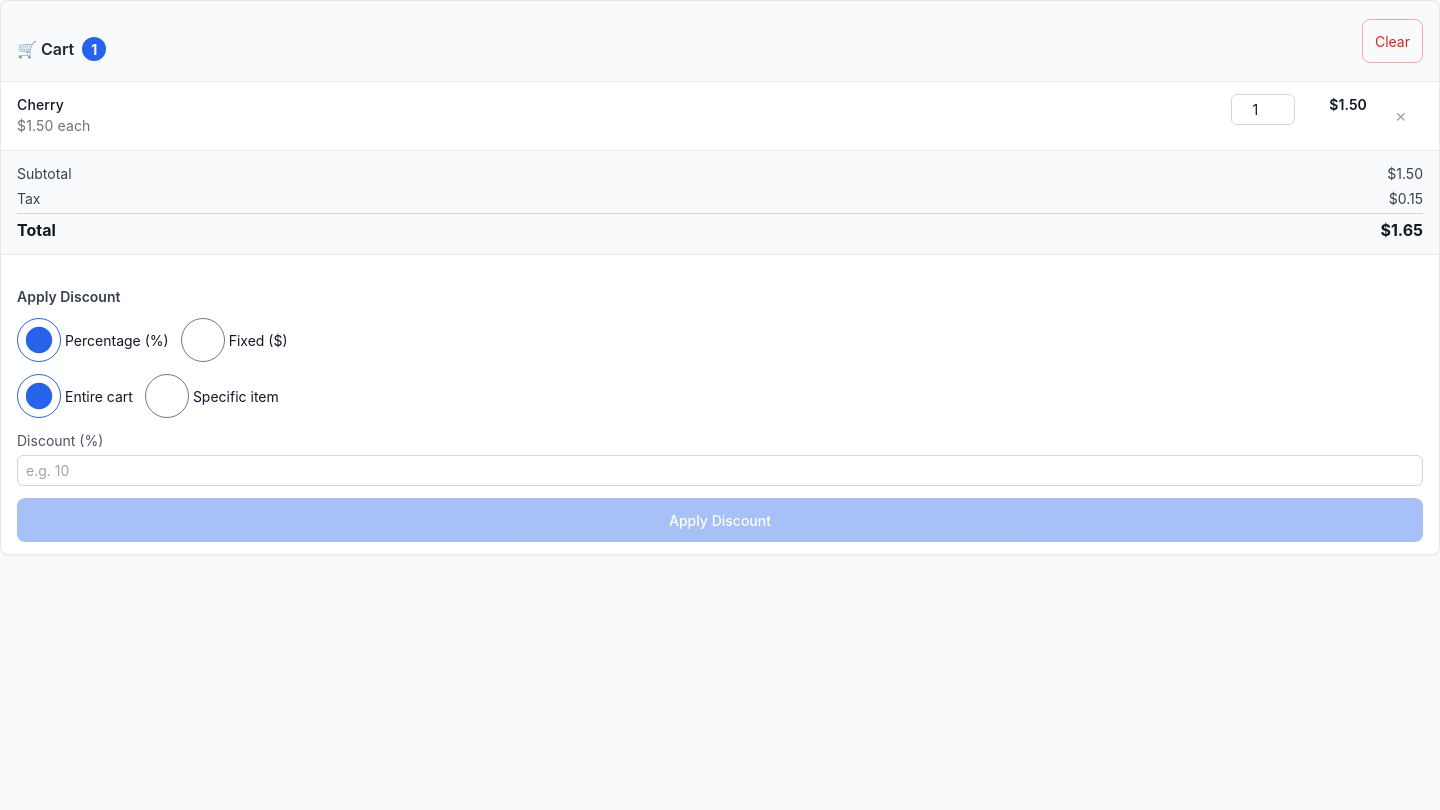
Scenario: ShoppingCart – store integration › removes item from cart when remove button is clicked
Expected: the text "Cherry" is shown, top-left (17, 96), bottom-right (64, 113)
Click the button named "remove cherry": (1401, 116) top-left (1379, 94), bottom-right (1423, 138)
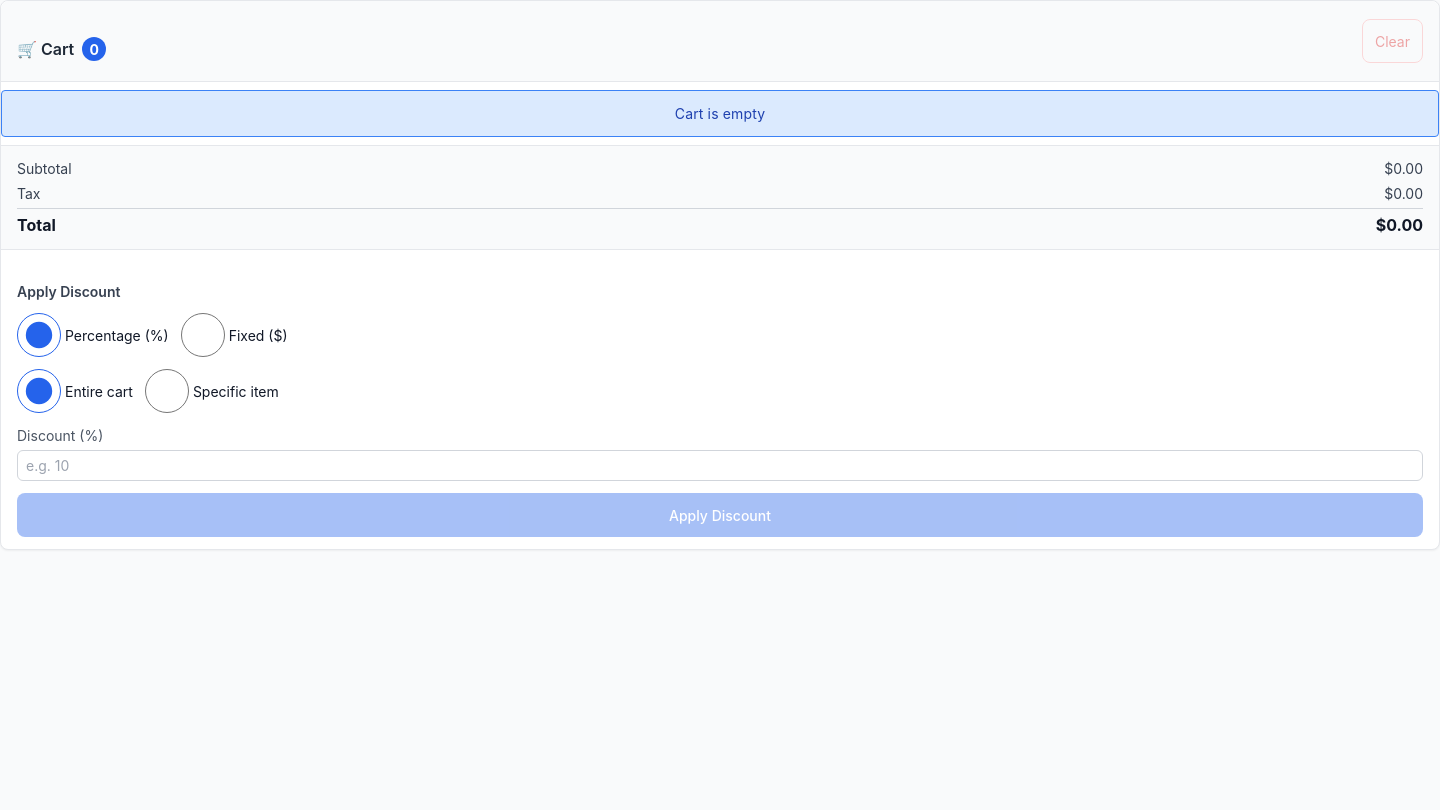
Now the text "Cherry" is gone
